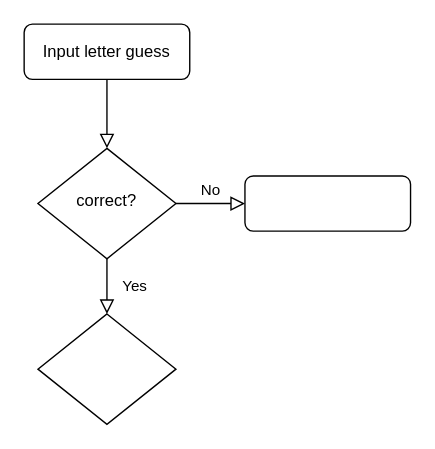
Some shapes in this 435 by 449 pixel diagram are drawn without their labels. Each missing label, with the centre of its shape:
"body part added" goes at point (327, 203).
"letter filled out" goes at point (106, 368).
